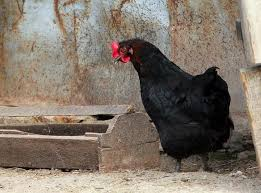chicken: (99, 25, 250, 187)
